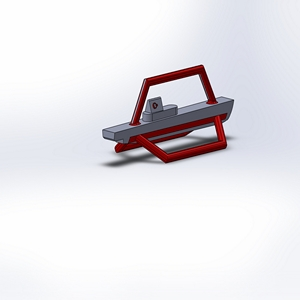submarine: (99, 60, 242, 164)
